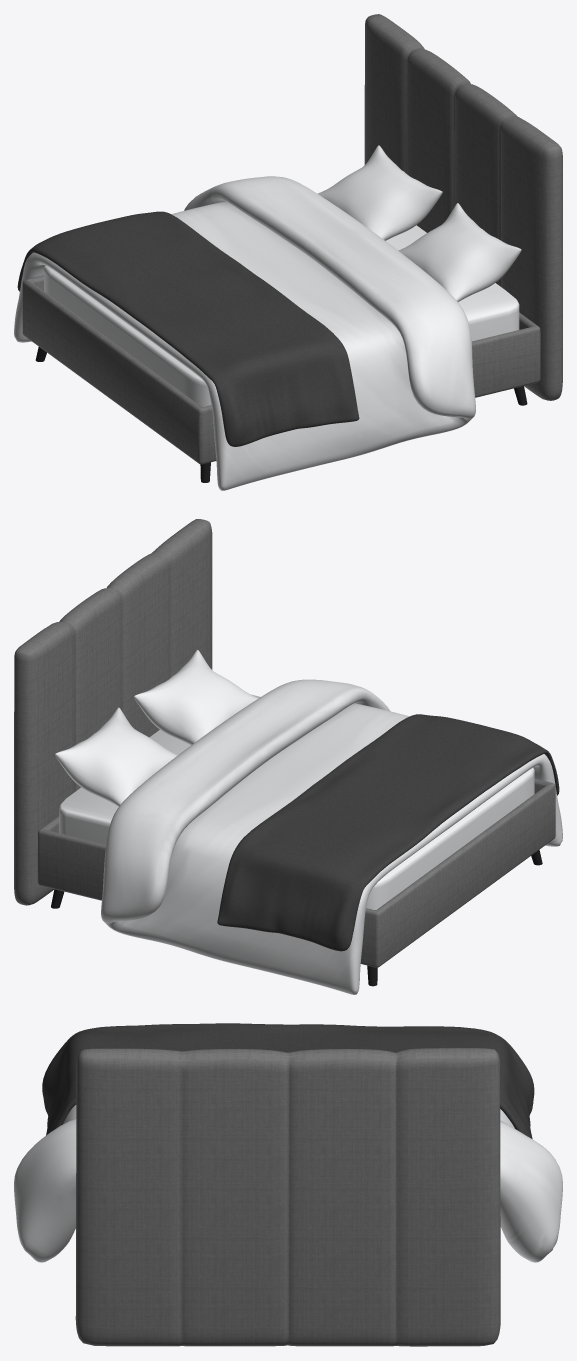
Rendered from Bed_2k.fbx.
3 renders of one model, top to bottom at view 1: azimuth 30°, elevation 25°; view 2: azimuth 150°, elevation 25°; view 3: azimuth 270°, elevation 25°, orthographic. The views are drawn at different scales.
Parts seen in each view (by area): view 1: OBJ_Bed_Blanket, OBJ_Bed_Body; view 2: OBJ_Bed_Blanket, OBJ_Bed_Body; view 3: OBJ_Bed_Body, OBJ_Bed_Blanket.
Part boxes in pixels (x1=…): OBJ_Bed_Blanket: x1=14, y1=145, x2=521, y2=490; OBJ_Bed_Body: x1=22, y1=14, x2=562, y2=482; OBJ_Bed_Blanket: x1=55, y1=649, x2=562, y2=994; OBJ_Bed_Body: x1=14, y1=519, x2=555, y2=986; OBJ_Bed_Body: x1=75, y1=1048, x2=500, y2=1346; OBJ_Bed_Blanket: x1=14, y1=1023, x2=562, y2=1262.
Size of the model in its own units: 225 by 151 by 256.
